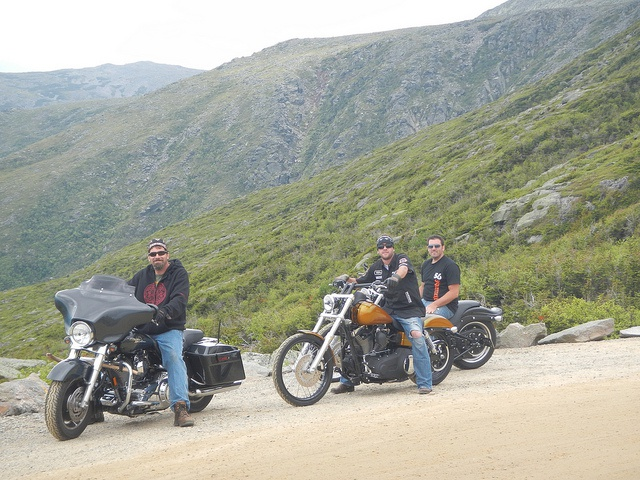non-vehicle: (45, 274, 246, 440), (272, 275, 453, 406), (309, 300, 502, 383)
